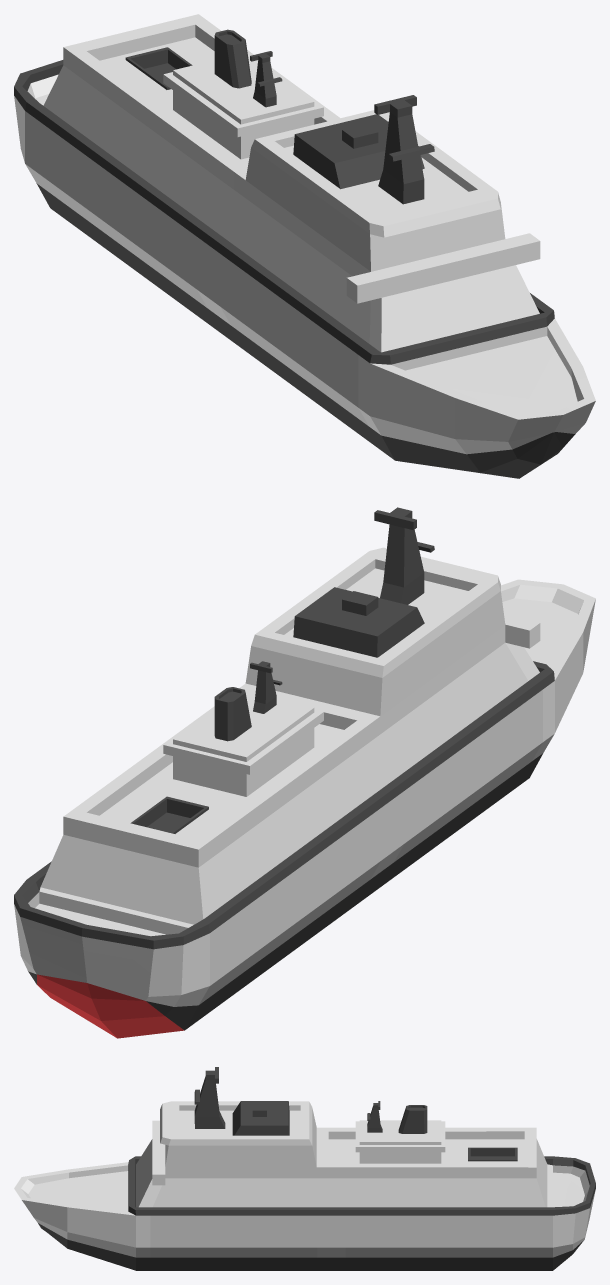
File: kryssningsfartyg.glb
The picture shows the model from 3 angles, top to bottom: view 1: azimuth 30°, elevation 25°; view 2: azimuth 150°, elevation 25°; view 3: azimuth 270°, elevation 25°; orthographic projection. The views are drawn at different scales.
Visible parts, largest first — view 1: CruiseShip; view 2: CruiseShip; view 3: CruiseShip.
Part boxes in pixels (box(x1,y1,x2,y2)): CruiseShip: box(14, 14, 595, 478); CruiseShip: box(14, 507, 595, 1038); CruiseShip: box(14, 1067, 595, 1270).
Size of the model in its own units: 4 by 6.6 by 18.05.
